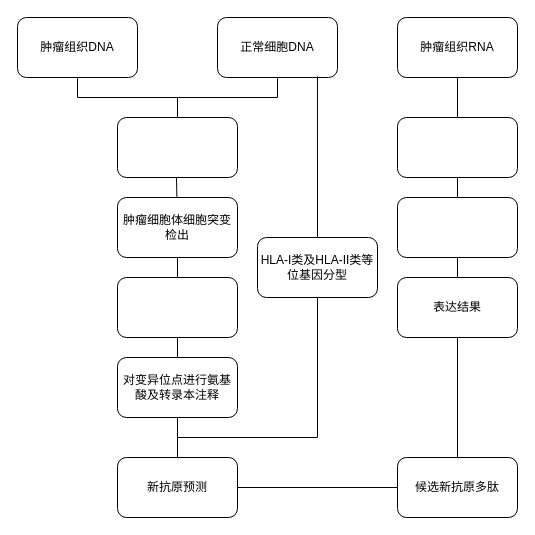
Some shapes in this 535 by 535 pixel diagram are drawn without their labels. The centre of each missing label's shape, as x and y in pixels:
"差异基因表达分析" belongs at point (457, 227).
"肿瘤组织RNA比对结果" belongs at point (457, 147).
"肿瘤组织与正常细胞比对结果" belongs at point (177, 147).
"过滤变异检出位点" belongs at point (177, 307).
